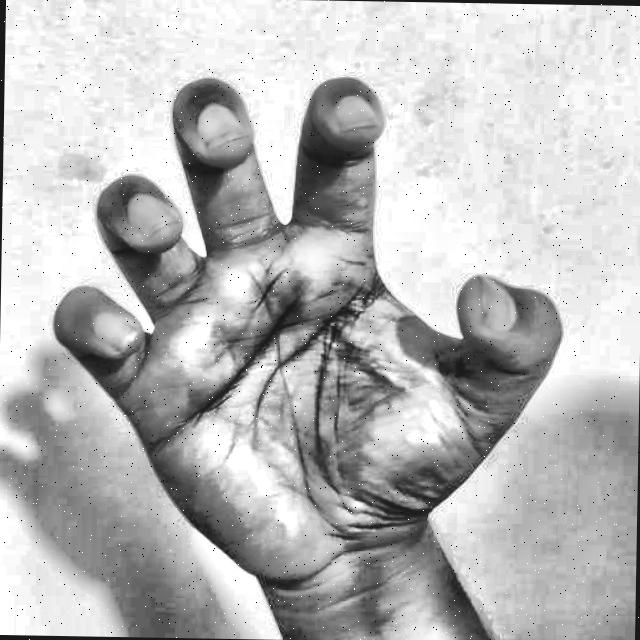Ja: (33, 26, 583, 640)
